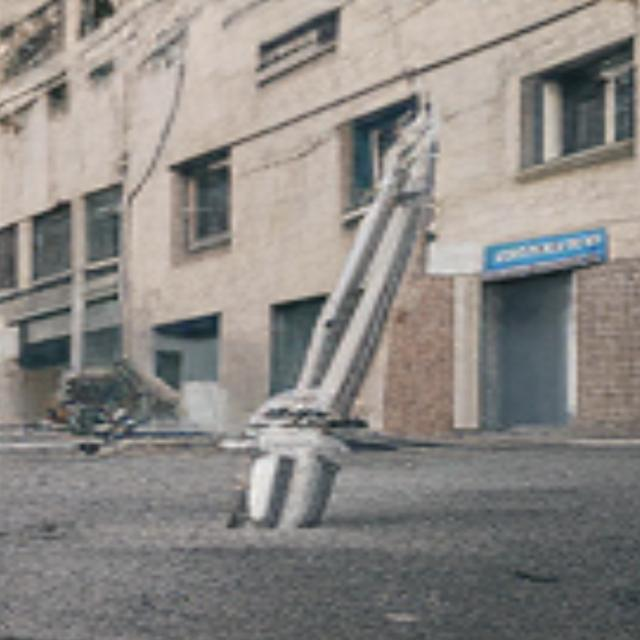Inclined Pole: (236, 110, 431, 529)
